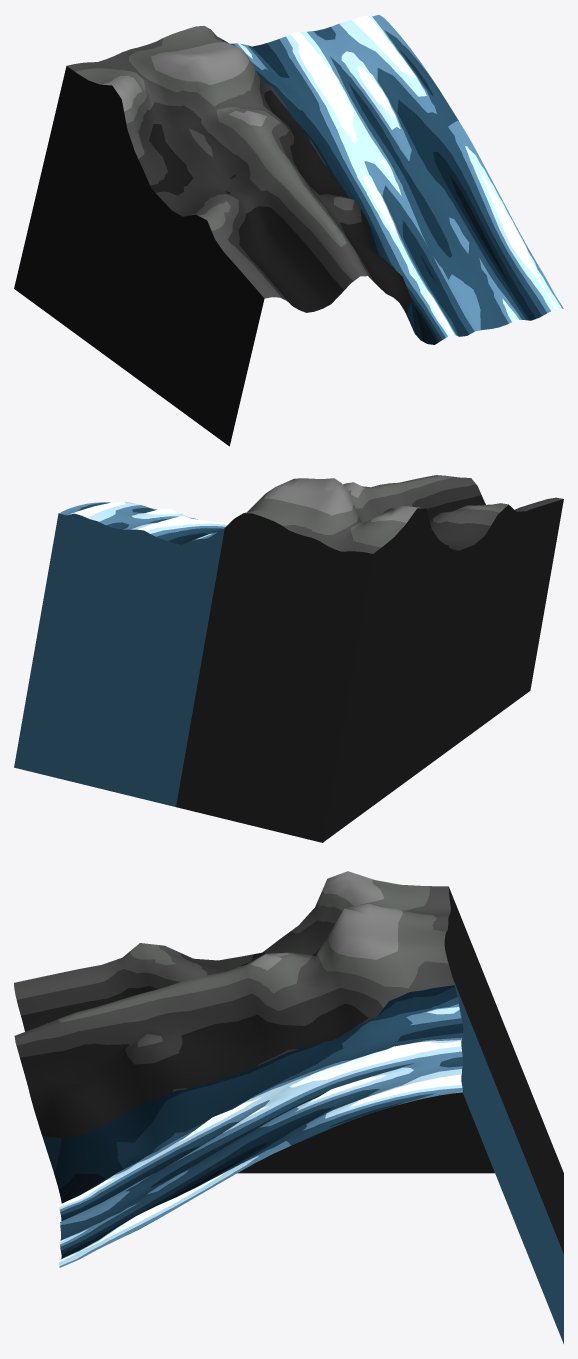
File: torm_fall_tl_240.glb
The picture shows the model from 3 angles, top to bottom: view 1: azimuth 30°, elevation 25°; view 2: azimuth 150°, elevation 25°; view 3: azimuth 270°, elevation 25°; orthographic projection. The views are drawn at different scales.
Parts seen in each view (by area): view 1: torm_fall_tl_240; view 2: torm_fall_tl_240; view 3: torm_fall_tl_240.
Boxes of the visible parts, left/top/right/bottom form: torm_fall_tl_240: left=14, top=14, right=563, bottom=446; torm_fall_tl_240: left=14, top=475, right=563, bottom=842; torm_fall_tl_240: left=14, top=871, right=563, bottom=1343.
Size of the model in its own units: 24 by 20.32 by 32.52.
